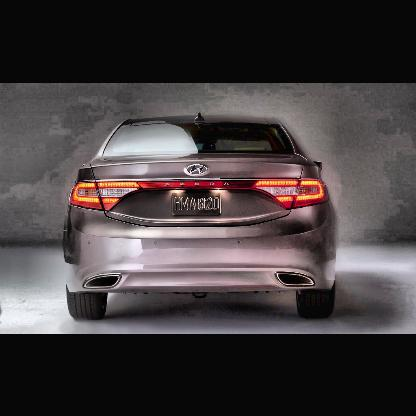Hyundai Azera Sedan 2012: (64, 112, 339, 321)
